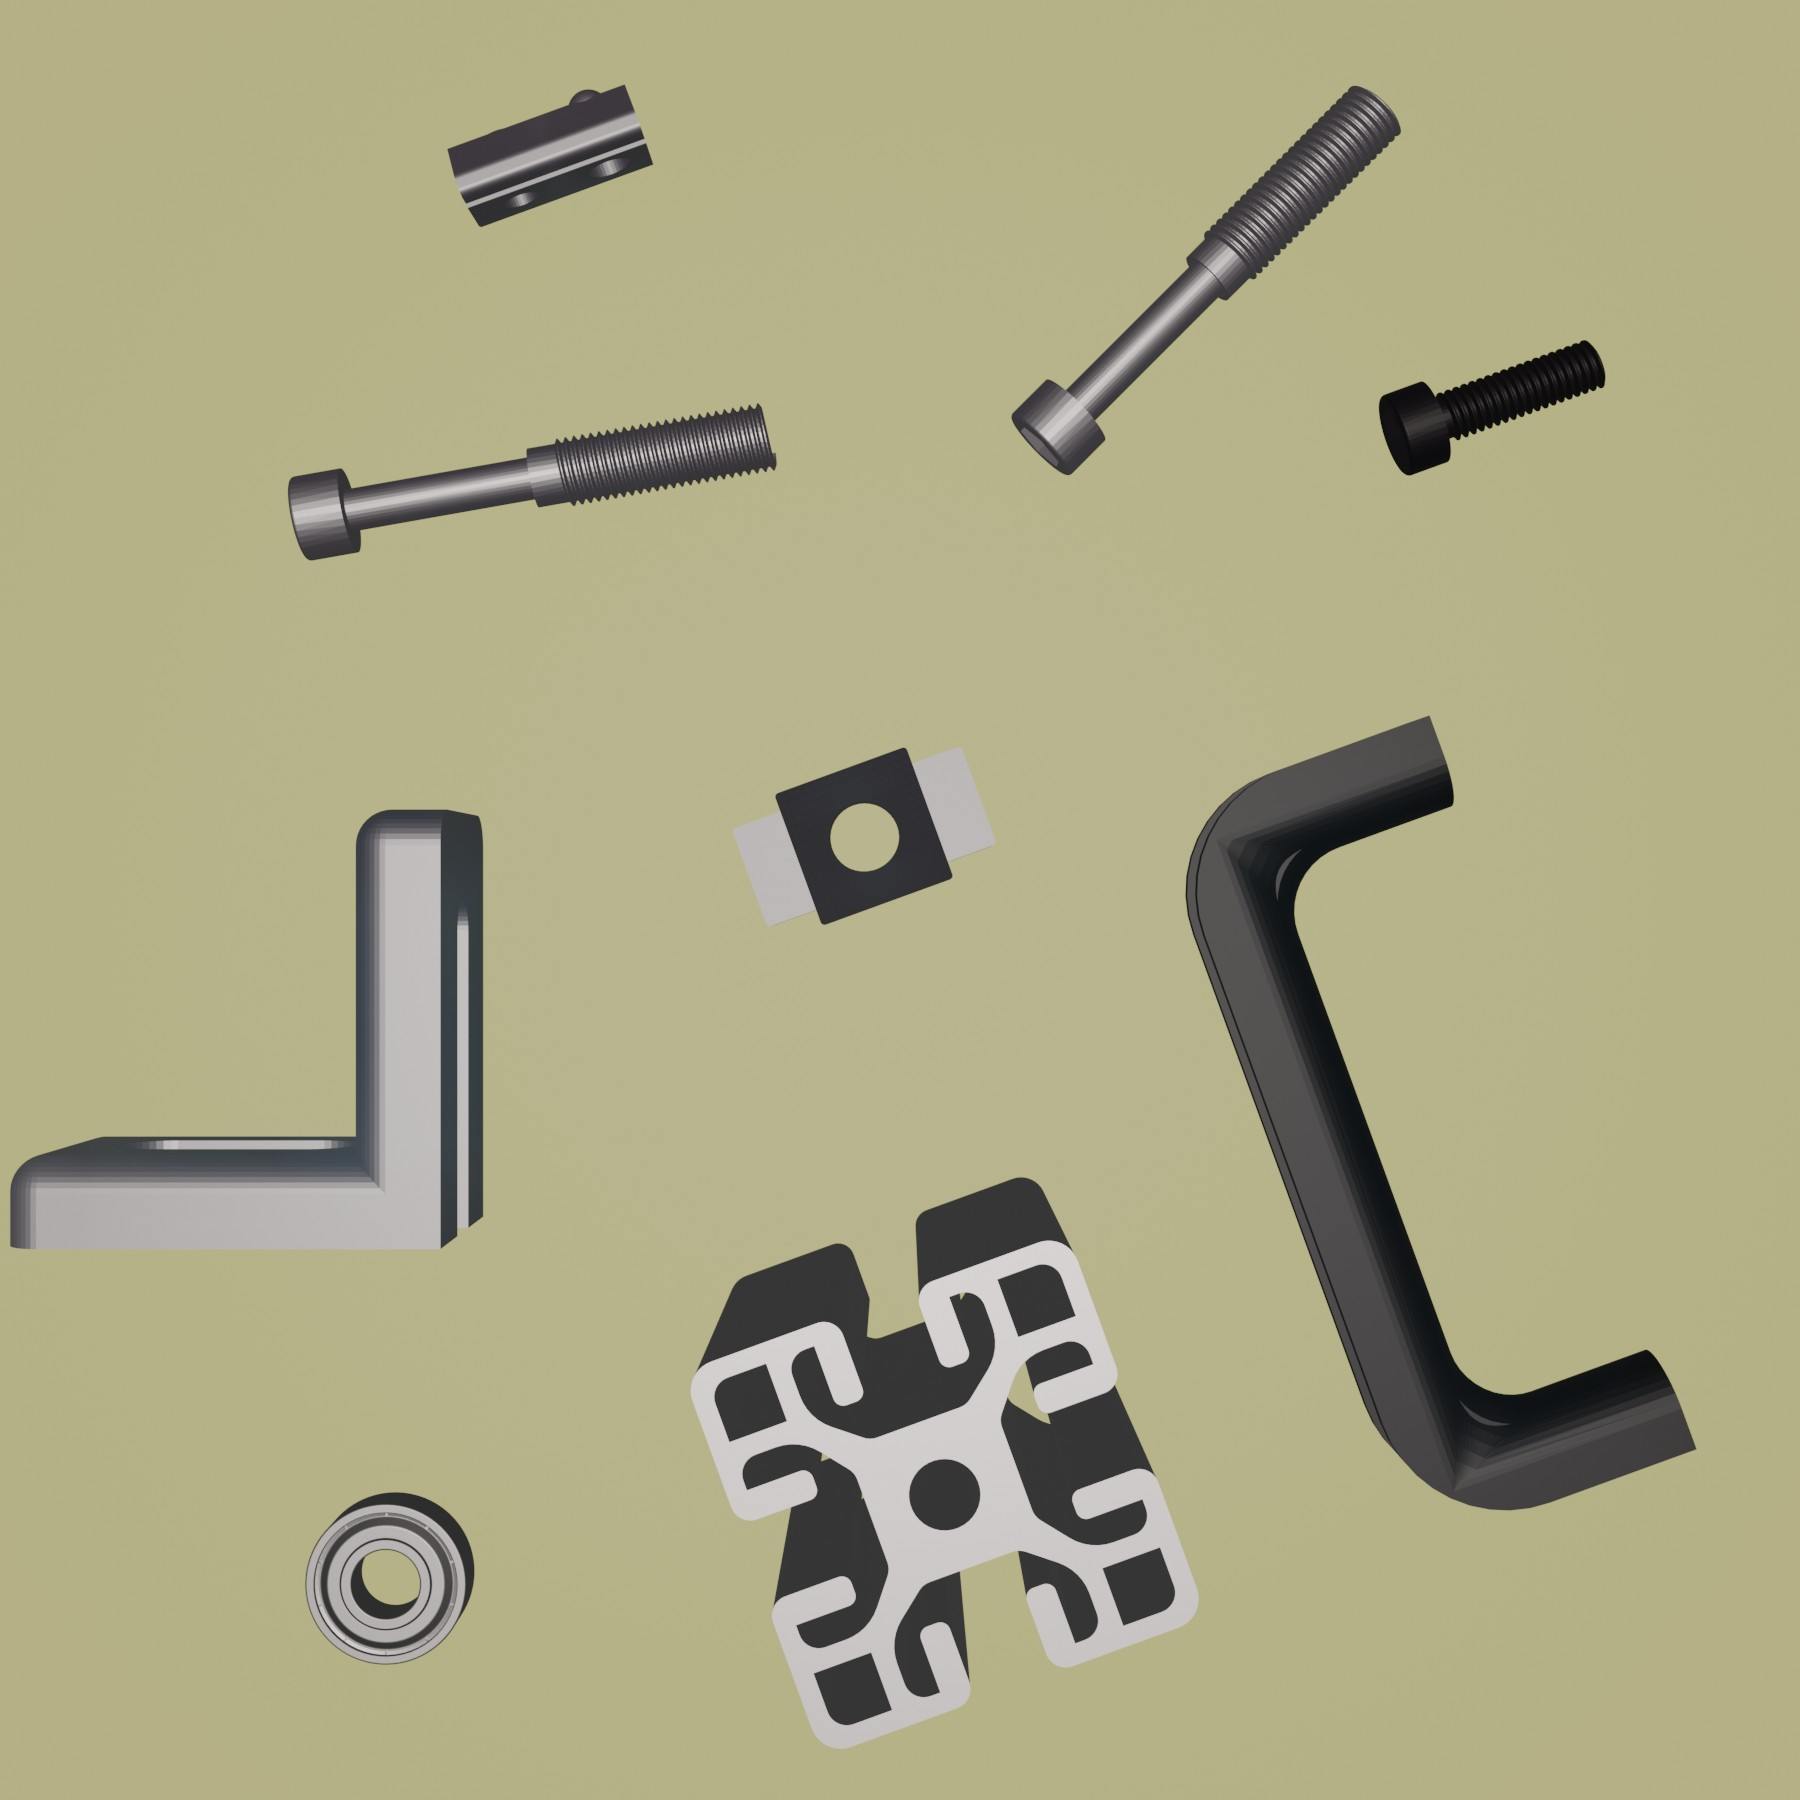Aluminium Extension: (689, 1174, 1202, 1754)
Ball Bearing: (302, 1488, 476, 1670)
Multiwinkel: (7, 803, 490, 1258)
Pull Handle: (1182, 710, 1698, 1513)
Shoulder Socket Head Cap Screw: (1009, 84, 1404, 478), (287, 397, 781, 564)
Socket Head Cap Screw: (1375, 338, 1609, 478)
T Nut Square: (727, 737, 1001, 931)
T Spring Nut: (443, 81, 654, 232)
